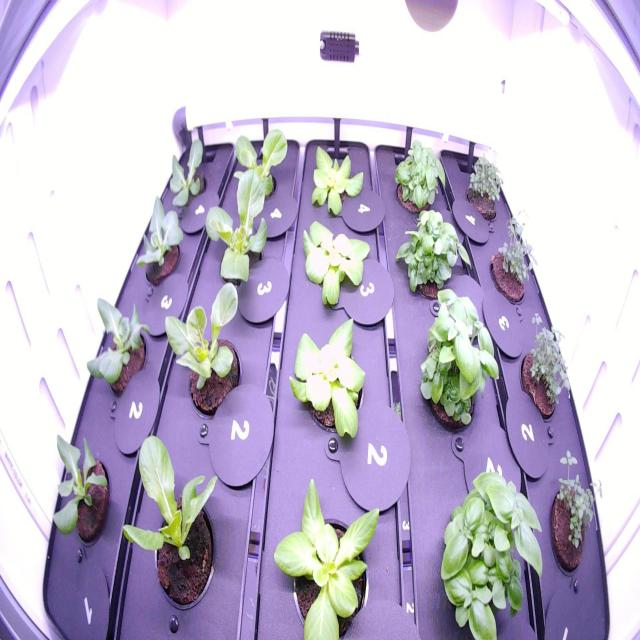young: (113, 423, 223, 615), (266, 467, 389, 636), (156, 272, 248, 426), (281, 306, 369, 450), (197, 163, 277, 296), (38, 430, 113, 553), (290, 212, 374, 317), (84, 289, 156, 406), (222, 120, 291, 218), (126, 189, 189, 293), (301, 133, 367, 220), (160, 123, 213, 219)
